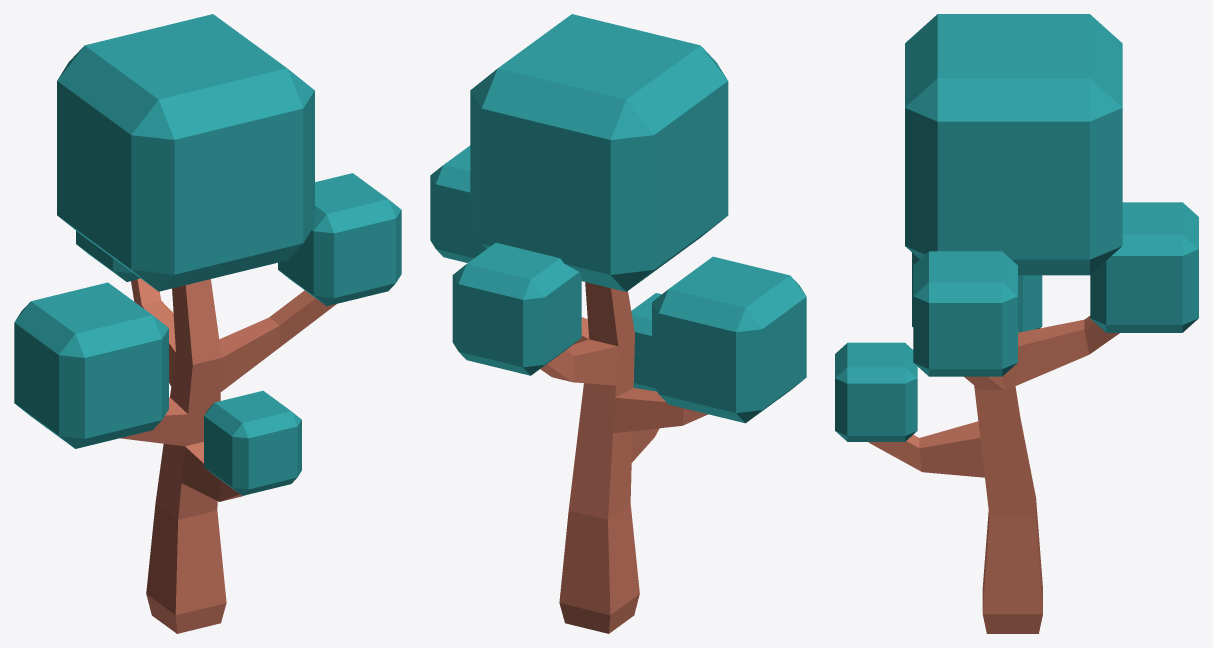
Rendered from tree_detailed_dark.obj.
3 views of the same model, side by side, from view 1: azimuth 30°, elevation 25°; view 2: azimuth 150°, elevation 25°; view 3: azimuth 270°, elevation 25° (orthographic). The views are drawn at different scales.
Parts seen in each view (by area): view 1: tree_detailed_dark; view 2: tree_detailed_dark; view 3: tree_detailed_dark.
Part boxes in pixels (x1,y1,x2,y2): tree_detailed_dark: (14,14,401,633); tree_detailed_dark: (430,14,806,633); tree_detailed_dark: (835,14,1198,633).
Bounding box in the file's own units: 0.8471 × 1.33 × 0.7616.
